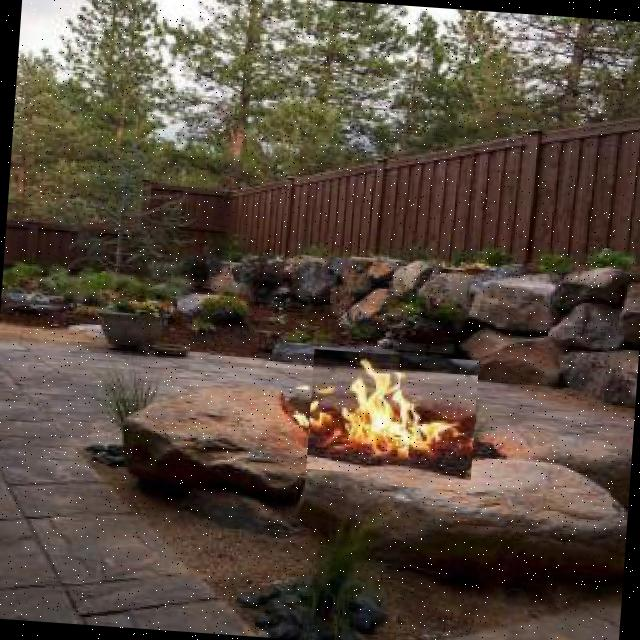fire: (306, 349, 478, 480)
